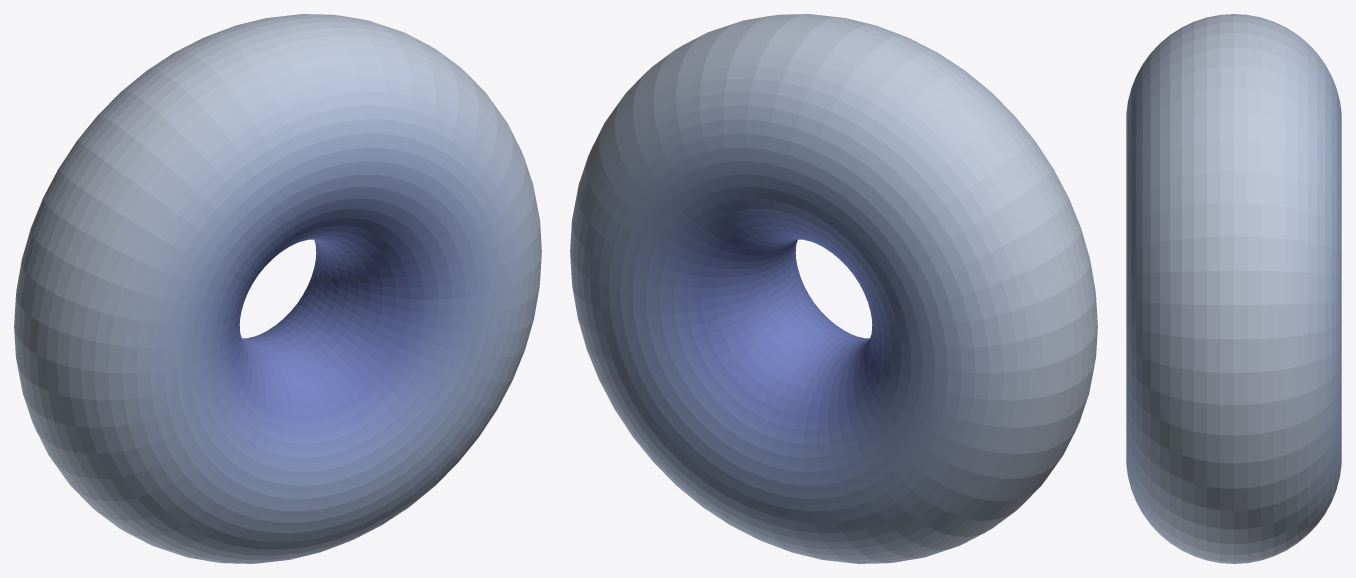
The picture shows the model from 3 angles, left to right: view 1: azimuth 30°, elevation 25°; view 2: azimuth 150°, elevation 25°; view 3: azimuth 270°, elevation 25°; orthographic projection. The views are drawn at different scales.
Visible parts, largest first — view 1: world; view 2: world; view 3: world.
Part boxes in pixels (left/top/right/bottom): world: left=14, top=14, right=541, bottom=563; world: left=570, top=14, right=1097, bottom=563; world: left=1126, top=14, right=1341, bottom=563.
Bounding box in the file's own units: 18.67 × 18.63 × 7.32.
